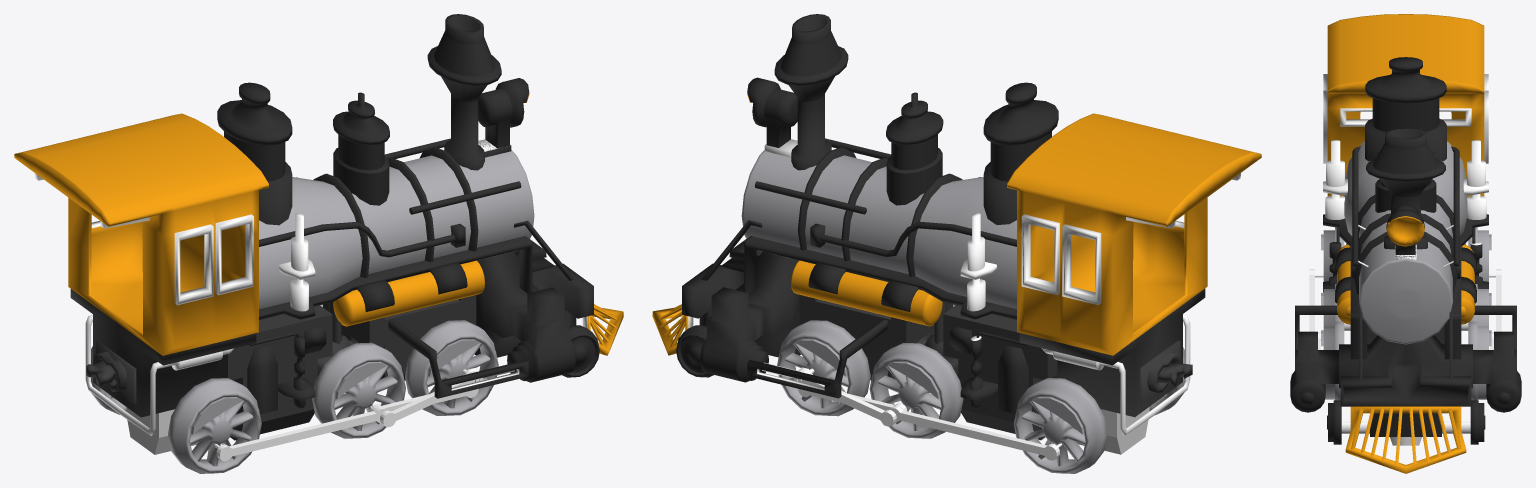
Rendered from locomotive.glb.
The picture shows the model from 3 angles, left to right: view 1: azimuth 30°, elevation 25°; view 2: azimuth 150°, elevation 25°; view 3: azimuth 270°, elevation 25°; orthographic projection. The views are drawn at different scales.
Parts seen in each view (by area): view 1: Cube.037, Cube.031, Cube.033, Cube.030, Cube.035, Cube.032, Cube.036; view 2: Cube.037, Cube.027, Cube.026, Cube.028, Cube.024, Cube.029, Cube.023; view 3: Cube.037, Cube.028, Cube.030, Cube.029, Cube.032, Cube.027, Cube.031, Cube.026, Cube.033, Cube.035, Cube.024.
Boxes of the visible parts, left/top/right/bottom form: Cube.037: left=14, top=14, right=623, bottom=454; Cube.031: left=168, top=378, right=261, bottom=473; Cube.033: left=312, top=342, right=405, bottom=438; Cube.030: left=405, top=320, right=498, bottom=415; Cube.035: left=214, top=389, right=478, bottom=461; Cube.032: left=562, top=325, right=599, bottom=377; Cube.036: left=380, top=370, right=483, bottom=427; Cube.037: left=652, top=14, right=1261, bottom=454; Cube.027: left=1013, top=378, right=1107, bottom=473; Cube.026: left=869, top=343, right=963, bottom=438; Cube.028: left=777, top=320, right=870, bottom=416; Cube.024: left=798, top=389, right=1062, bottom=460; Cube.029: left=676, top=325, right=713, bottom=377; Cube.023: left=793, top=370, right=896, bottom=426; Cube.037: left=1290, top=14, right=1521, bottom=473; Cube.028: left=1468, top=321, right=1491, bottom=400; Cube.030: left=1321, top=321, right=1344, bottom=400; Cube.029: left=1470, top=400, right=1485, bottom=444; Cube.032: left=1327, top=400, right=1341, bottom=444; Cube.027: left=1468, top=227, right=1491, bottom=281; Cube.031: left=1321, top=227, right=1344, bottom=281; Cube.026: left=1470, top=284, right=1491, bottom=326; Cube.033: left=1321, top=284, right=1341, bottom=326; Cube.035: left=1309, top=269, right=1323, bottom=349; Cube.024: left=1489, top=269, right=1501, bottom=349.
Size of the model in its own units: 9.6 by 5.66 by 4.11.
